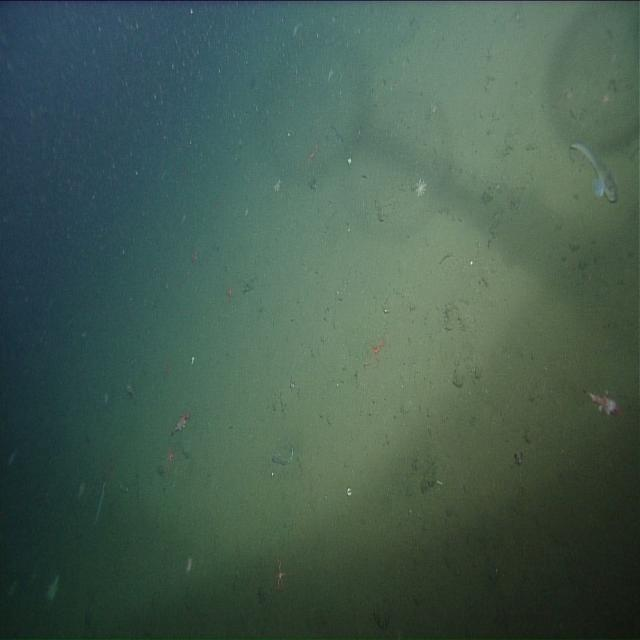Brittle Star: (361, 328, 390, 372), (270, 553, 292, 598), (160, 440, 181, 480)
Not Brittle Star: (569, 134, 621, 216), (582, 375, 626, 427), (168, 408, 191, 439)
